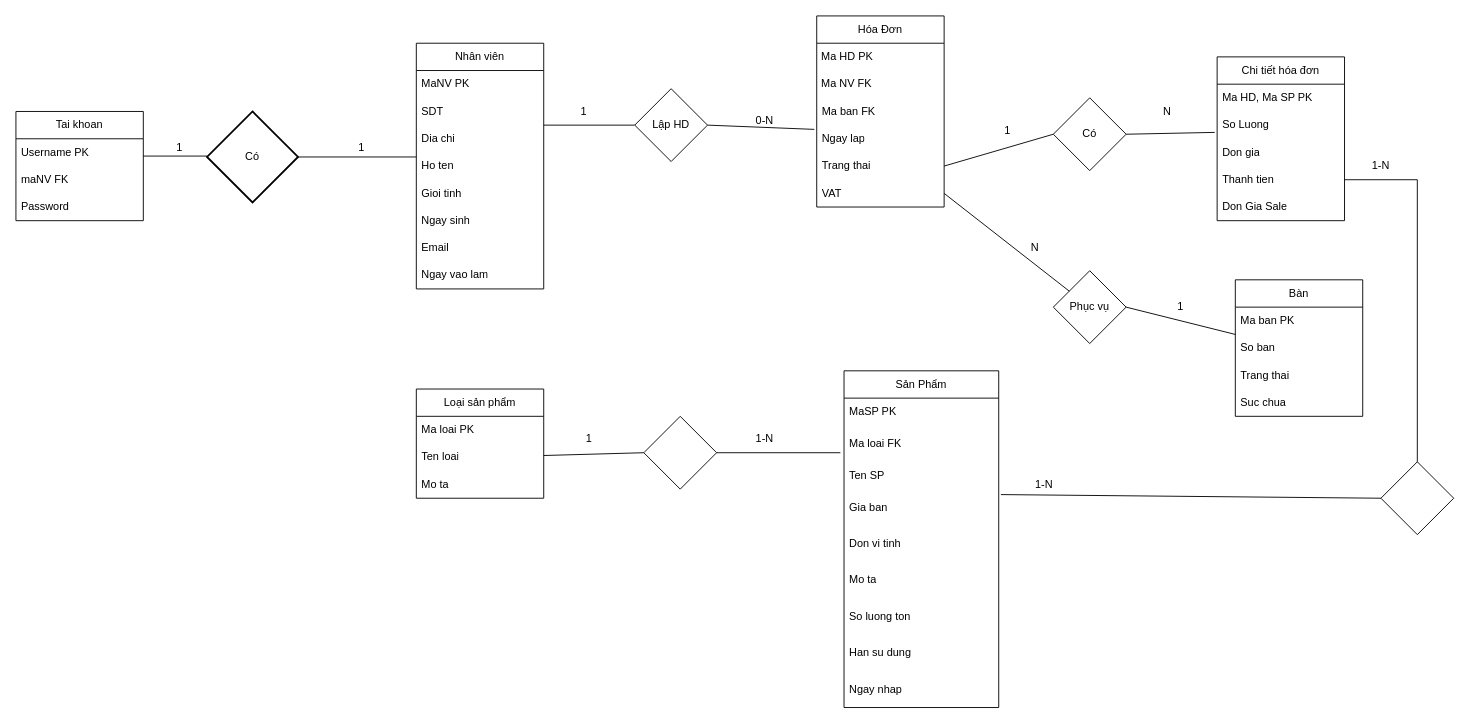
Some shapes in this 1470 by 723 pixel diagram are drawn without their labels. Each missing label, with the centre of its shape:
"Có trong" goes at [1417,498].
"Phân loại" goes at [680,452].
